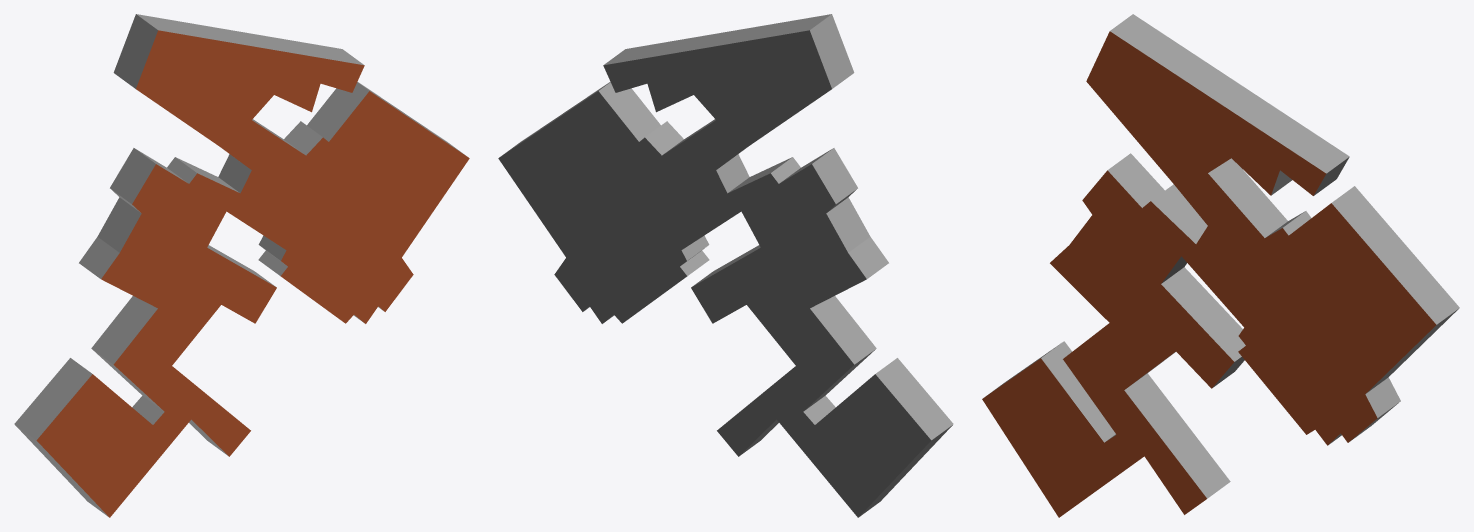
The model's file is construction_2413_assumed_A_Casa_h6m.obj.
3 views of the same model, side by side, from view 1: azimuth 30°, elevation 25°; view 2: azimuth 150°, elevation 25°; view 3: azimuth 330°, elevation 25° (orthographic). The views are drawn at different scales.
Parts seen in each view (by area): view 1: construction_2413_assumed_A_Casa; view 2: construction_2413_assumed_A_Casa; view 3: construction_2413_assumed_A_Casa.
Part boxes in pixels (x1,y1,x2,y2): construction_2413_assumed_A_Casa: [14, 14, 469, 517]; construction_2413_assumed_A_Casa: [498, 14, 953, 517]; construction_2413_assumed_A_Casa: [982, 14, 1459, 517].
Size of the model in its own units: 67.34 by 70.67 by 6.
